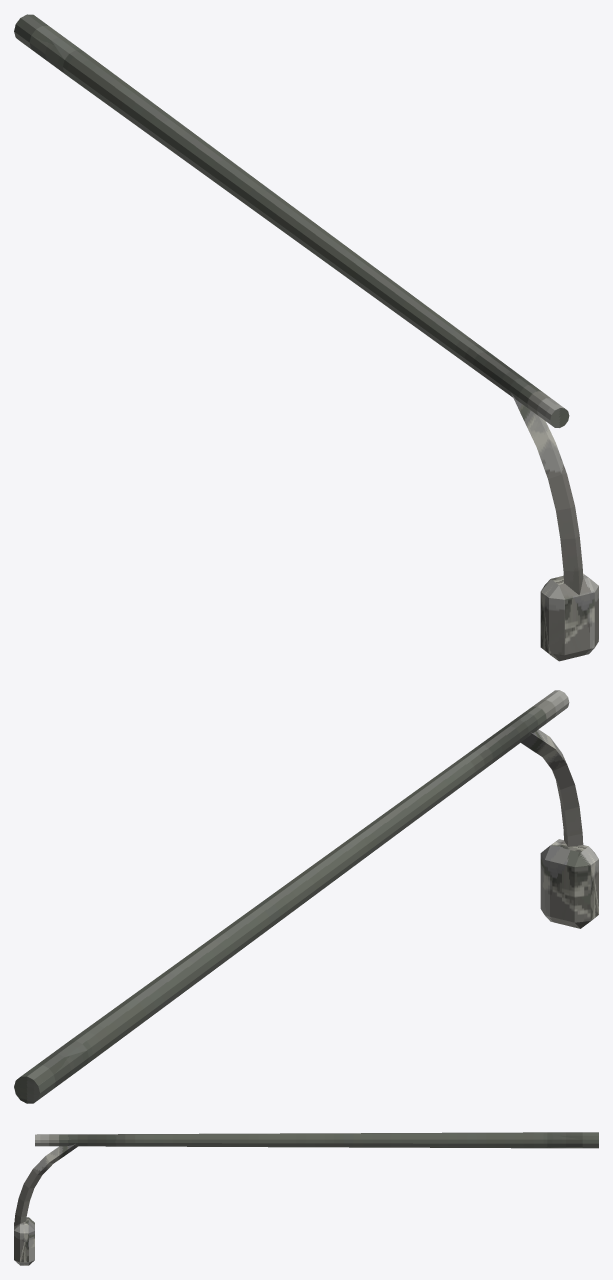
Rendered from pz_street_pole_09.obj.
3 renders of one model, top to bottom at view 1: azimuth 30°, elevation 25°; view 2: azimuth 150°, elevation 25°; view 3: azimuth 270°, elevation 25°, orthographic. The views are drawn at different scales.
Visible parts, largest first — view 1: pz_street_pole_09_|_tapered_native_street_pole, pz_street_pole_09_|_rounded_street_lamp_head, pz_street_pole_09_|_EDITABLE_curved_street_lamp_arm; view 2: pz_street_pole_09_|_tapered_native_street_pole, pz_street_pole_09_|_rounded_street_lamp_head, pz_street_pole_09_|_EDITABLE_curved_street_lamp_arm; view 3: pz_street_pole_09_|_tapered_native_street_pole, pz_street_pole_09_|_EDITABLE_curved_street_lamp_arm, pz_street_pole_09_|_rounded_street_lamp_head.
Boxes of the visible parts, left/top/right/bottom form: pz_street_pole_09_|_tapered_native_street_pole: left=14, top=14, right=569, bottom=427; pz_street_pole_09_|_rounded_street_lamp_head: left=540, top=573, right=598, bottom=661; pz_street_pole_09_|_EDITABLE_curved_street_lamp_arm: left=511, top=393, right=583, bottom=594; pz_street_pole_09_|_tapered_native_street_pole: left=14, top=690, right=569, bottom=1103; pz_street_pole_09_|_rounded_street_lamp_head: left=540, top=839, right=598, bottom=928; pz_street_pole_09_|_EDITABLE_curved_street_lamp_arm: left=521, top=729, right=583, bottom=846; pz_street_pole_09_|_tapered_native_street_pole: left=35, top=1132, right=598, bottom=1148; pz_street_pole_09_|_EDITABLE_curved_street_lamp_arm: left=14, top=1143, right=77, bottom=1226; pz_street_pole_09_|_rounded_street_lamp_head: left=14, top=1217, right=34, bottom=1265.
Size of the model in its own units: 0.13 by 0.604 by 2.49.
1 material, 1 textured.
